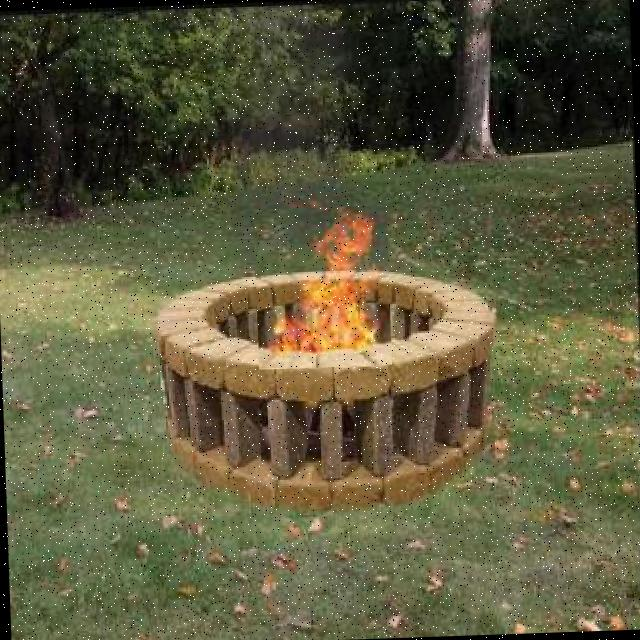fire: (253, 204, 392, 370)
